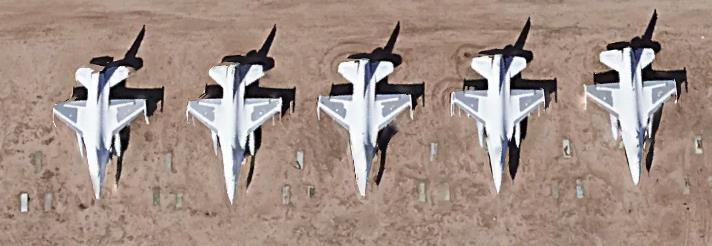F-16: (448, 40, 549, 192), (48, 60, 151, 201), (318, 48, 414, 198), (189, 52, 281, 203), (590, 37, 678, 183)
